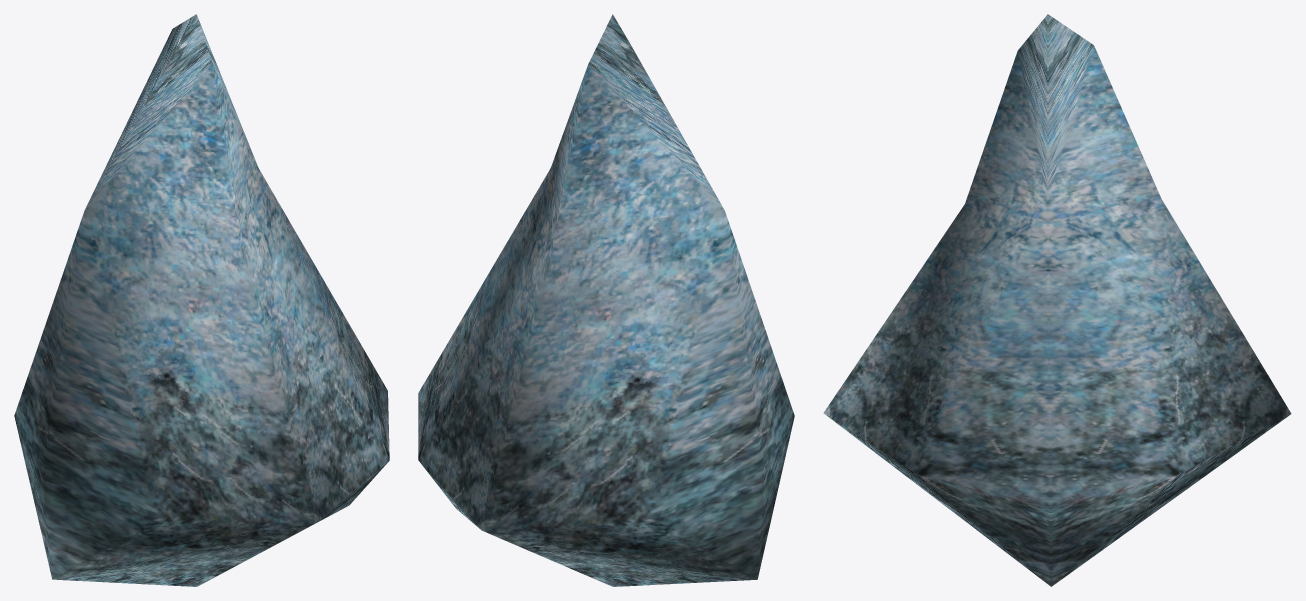
File: thm_all_cave_stalagmite_ice_a2_l2.fbx
3 renders of one model, left to right at view 1: azimuth 30°, elevation 25°; view 2: azimuth 150°, elevation 25°; view 3: azimuth 270°, elevation 25°, orthographic. The views are drawn at different scales.
Visible parts, largest first — view 1: mesh_node; view 2: mesh_node; view 3: mesh_node.
Part boxes in pixels (x1,y1,x2,y2): mesh_node: (14, 14, 389, 586); mesh_node: (418, 14, 794, 586); mesh_node: (823, 14, 1291, 586).
Bounding box in the file's own units: 0.8366 × 1.33 × 1.04.
